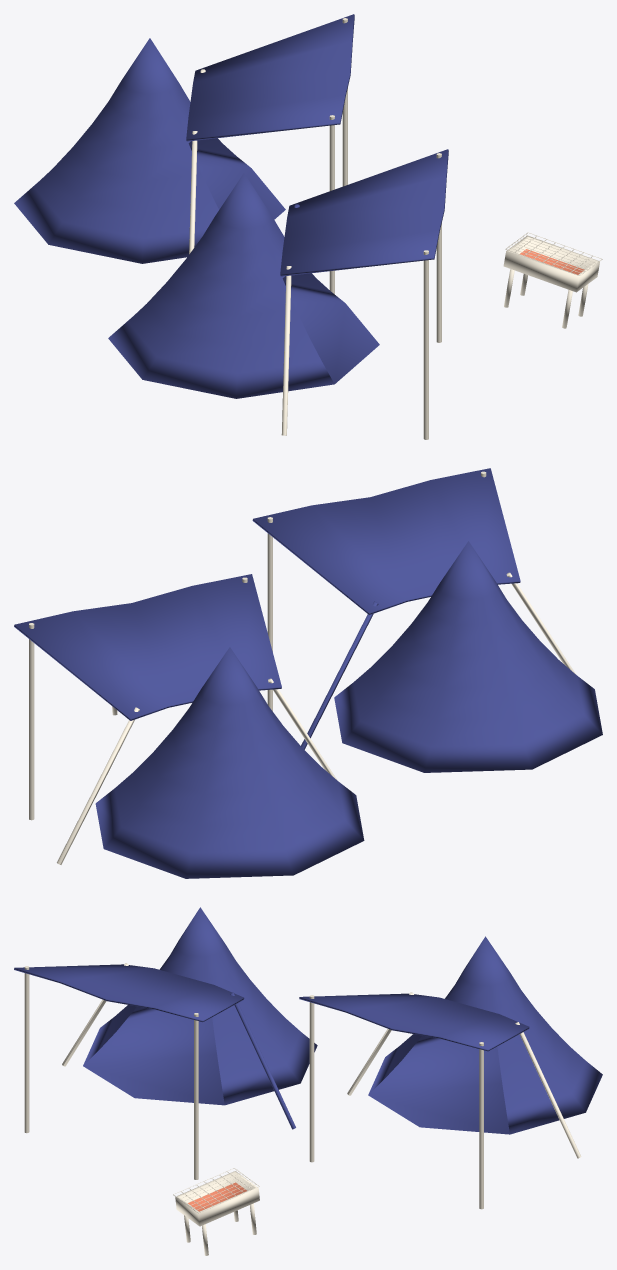
The model's file is 035_キャンプ.glb.
The picture shows the model from 3 angles, top to bottom: view 1: azimuth 30°, elevation 25°; view 2: azimuth 150°, elevation 25°; view 3: azimuth 270°, elevation 25°; orthographic projection. The views are drawn at different scales.
Parts seen in each view (by area): view 1: 円錐, 円錐_2; view 2: 円錐, 円錐_2; view 3: 円錐, 円錐_2, 円錐_1.
Boxes of the visible parts, x1,y1,x2,y2 form: 円錐: [14, 14, 448, 398]; 円錐_2: [189, 18, 602, 439]; 円錐: [14, 468, 602, 878]; 円錐_2: [29, 471, 575, 864]; 円錐: [14, 907, 602, 1134]; 円錐_2: [24, 963, 581, 1255]; 円錐_1: [188, 1182, 246, 1211].
Bounding box in the file's own units: 6.05 × 2.8 × 7.4.
